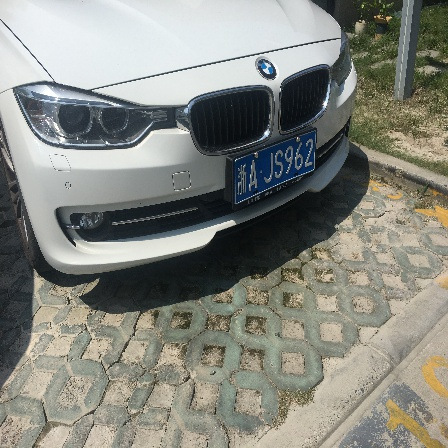plate: (232, 129, 324, 205)
